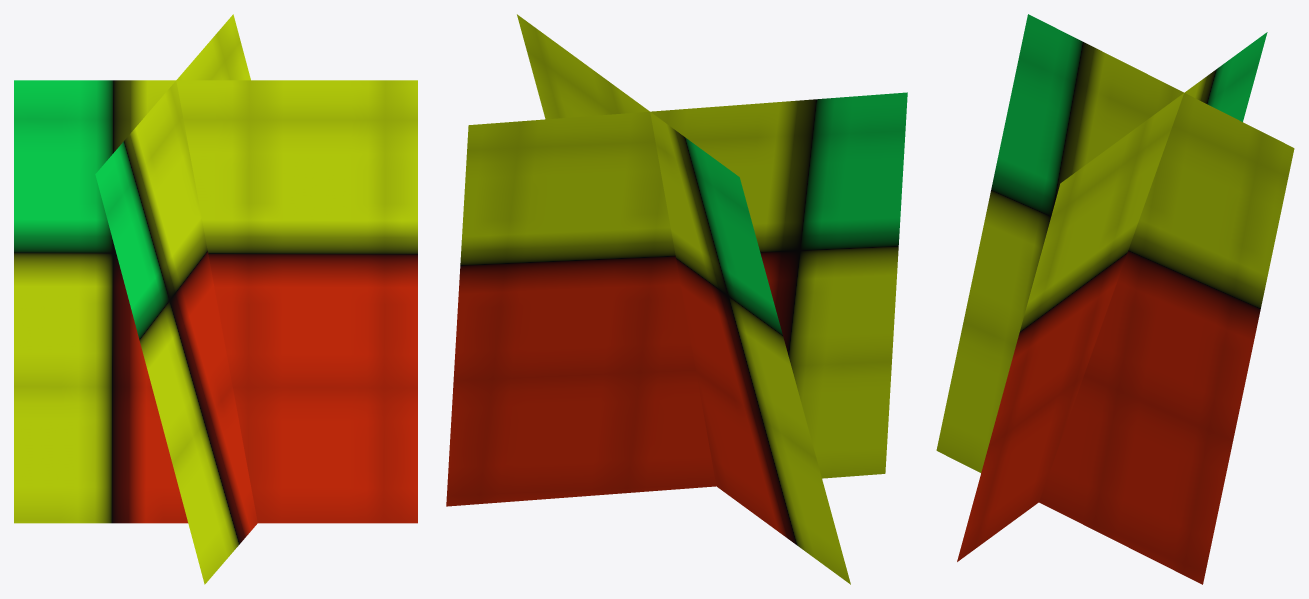
File: Grass01.fbx
3 views of the same model, side by side, from view 1: azimuth 30°, elevation 25°; view 2: azimuth 150°, elevation 25°; view 3: azimuth 270°, elevation 25° (orthographic). The views are drawn at different scales.
Visible parts, largest first — view 1: Grass01; view 2: Grass01; view 3: Grass01.
Boxes of the visible parts, x1=… form: Grass01: x1=14, y1=14, x2=417, y2=584; Grass01: x1=446, y1=14, x2=907, y2=584; Grass01: x1=936, y1=14, x2=1294, y2=584.
Bounding box in the file's own units: 2.71 × 2.88 × 2.32.
Materials: 1 (1 with a texture image).
